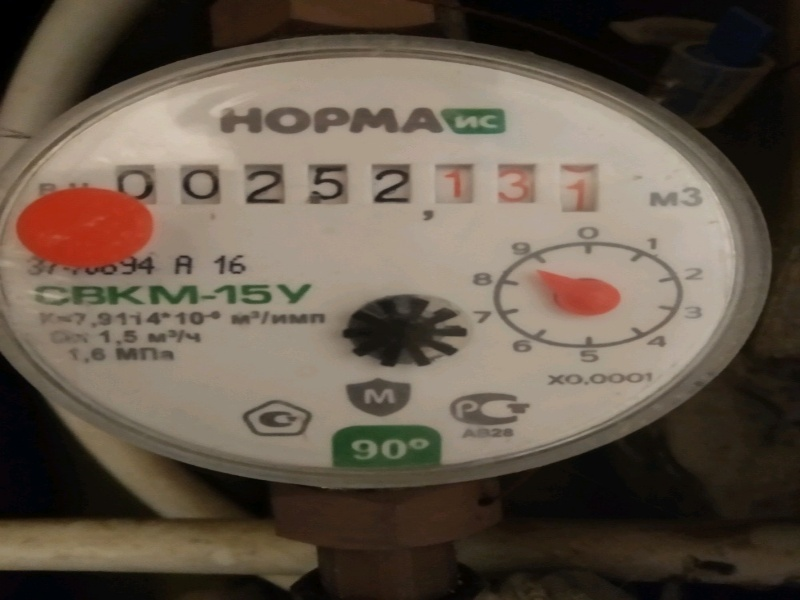meter: (94, 150, 613, 228)
